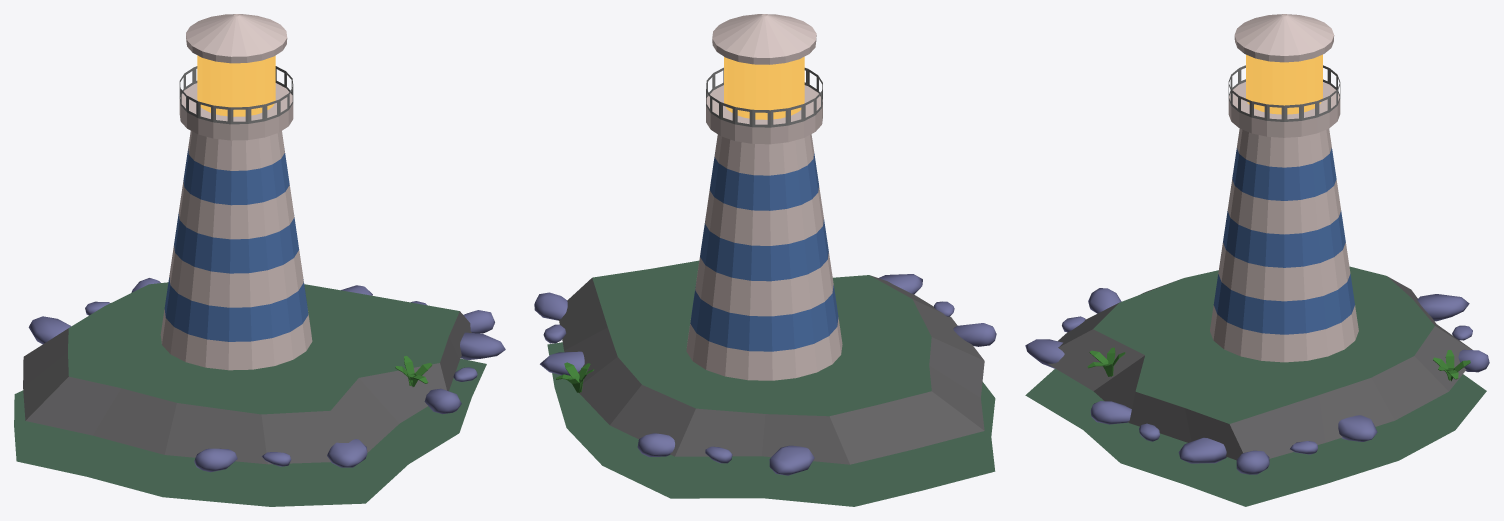
The model's file is island4.glb.
3 views of the same model, side by side, from view 1: azimuth 30°, elevation 25°; view 2: azimuth 150°, elevation 25°; view 3: azimuth 270°, elevation 25° (orthographic). The views are drawn at different scales.
Visible parts, largest first — view 1: isl.001, lighthouse.001, island4__hit, Rock4.020, Rock4.023, Rock4.022, Rock4.014, Rock4.019, Rock4.016; view 2: isl.001, lighthouse.001, island4__hit, Rock4.014, Rock4.022, Rock4.013, Rock4.016, Rock4.017, Rock4.023; view 3: isl.001, lighthouse.001, island4__hit, Rock4.020, Rock4.014, Rock4.017, Rock4.019, Rock4.023, Rock4.016, Rock4.022, Rock4.013.
Part boxes in pixels (<box>): isl.001: <box>23,282,471,464</box>; lighthouse.001: <box>160,14,312,370</box>; island4__hit: <box>14,358,486,506</box>; Rock4.020: <box>460,332,505,360</box>; Rock4.023: <box>327,439,367,467</box>; Rock4.022: <box>194,448,237,472</box>; Rock4.014: <box>28,316,71,344</box>; Rock4.019: <box>424,388,461,414</box>; Rock4.016: <box>463,310,494,333</box>; isl.001: <box>559,260,984,464</box>; lighthouse.001: <box>686,14,842,380</box>; island4__hit: <box>547,342,995,506</box>; Rock4.014: <box>769,445,814,475</box>; Rock4.022: <box>953,323,996,346</box>; Rock4.013: <box>637,433,674,457</box>; Rock4.016: <box>534,292,567,320</box>; Rock4.017: <box>540,351,584,375</box>; Rock4.023: <box>879,274,922,294</box>; isl.001: <box>1048,266,1472,460</box>; lighthouse.001: <box>1210,14,1358,362</box>; island4__hit: <box>1025,369,1486,506</box>; Rock4.020: <box>1178,437,1226,463</box>; Rock4.014: <box>1417,294,1469,321</box>; Rock4.017: <box>1338,415,1377,441</box>; Rock4.019: <box>1090,401,1131,424</box>; Rock4.023: <box>1025,339,1064,368</box>; Rock4.016: <box>1236,450,1269,474</box>; Rock4.022: <box>1088,288,1121,313</box>; Rock4.013: <box>1458,349,1489,372</box>.
Size of the model in its own units: 15.56 by 12.61 by 13.9.
